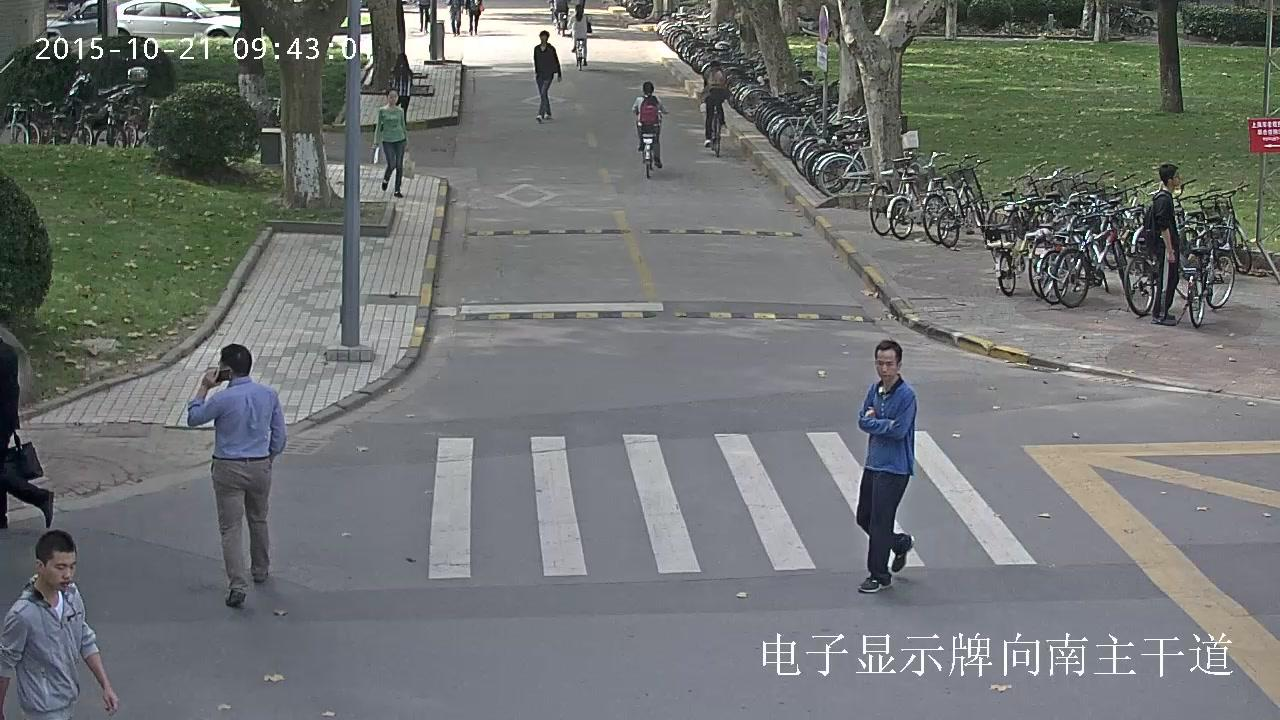face: (44, 549, 76, 589), (875, 348, 896, 379), (216, 355, 224, 369), (388, 90, 397, 102), (1173, 169, 1179, 185), (540, 35, 546, 40)
